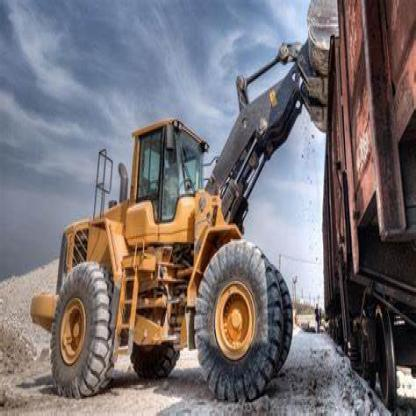bull_dozer/loader/grader: (24, 6, 358, 407)
